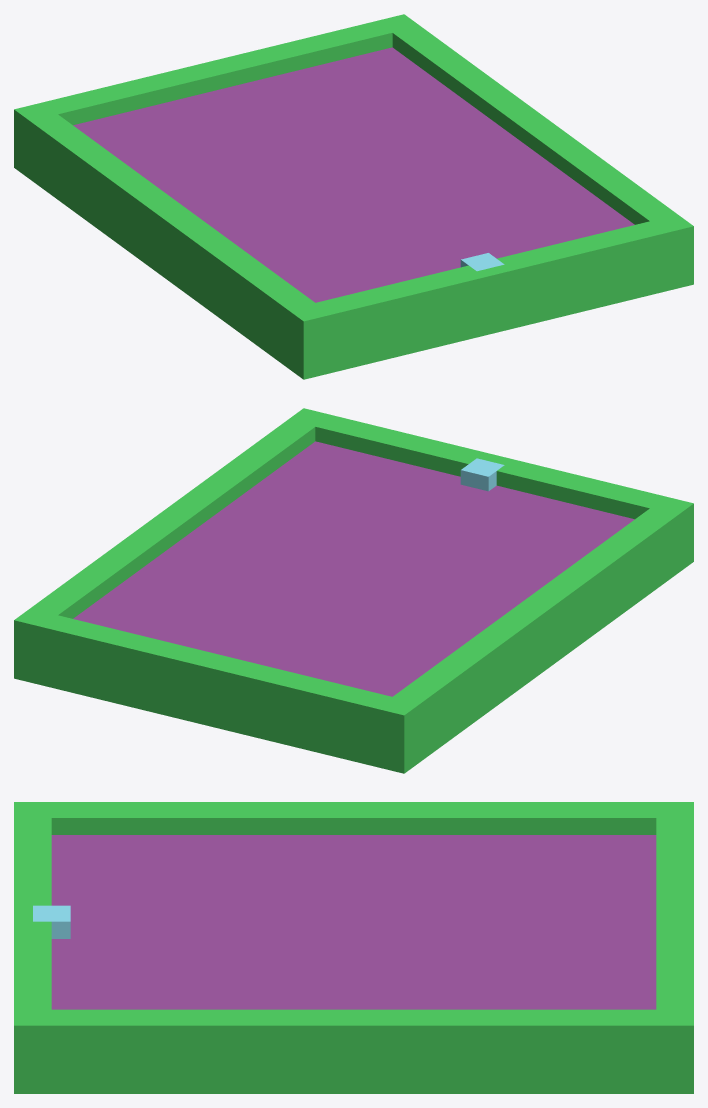
File: Tablet.fbx
3 views of the same model, one above another, from view 1: azimuth 30°, elevation 25°; view 2: azimuth 150°, elevation 25°; view 3: azimuth 270°, elevation 25° (orthographic). The views are drawn at different scales.
Parts seen in each view (by area): view 1: default; view 2: default; view 3: default.
Part boxes in pixels (bbox=[...]): default: bbox=[14, 14, 693, 379]; default: bbox=[14, 408, 693, 773]; default: bbox=[14, 802, 693, 1093].
Size of the model in its own units: 28 by 4 by 36.
